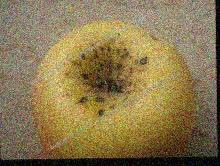rotten apple: (29, 19, 193, 158)
